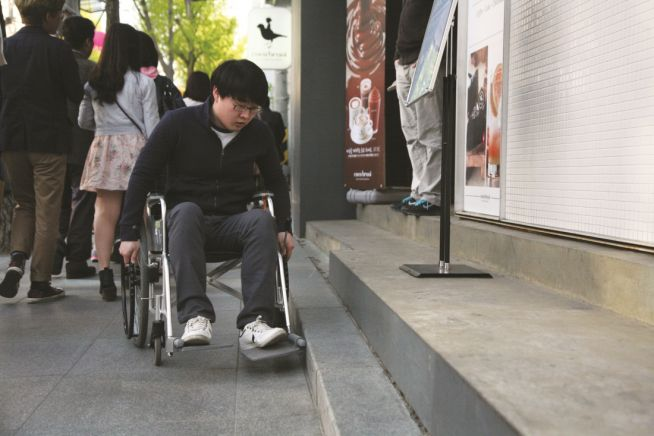wheelchair: (113, 59, 307, 365)
